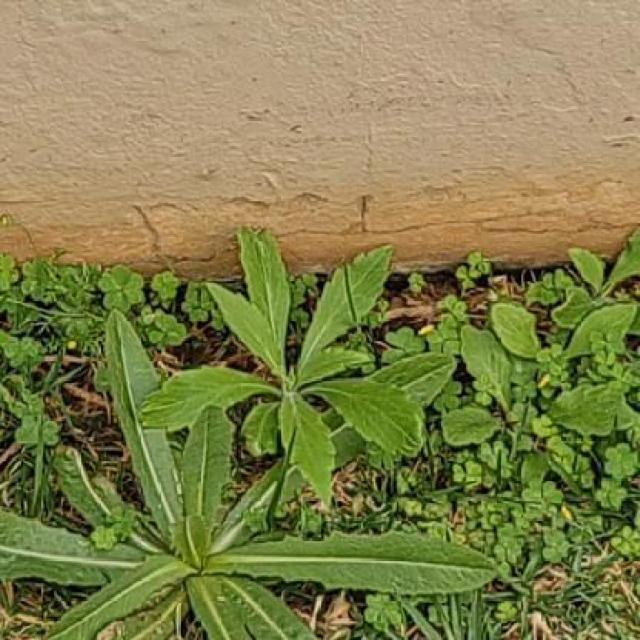weed: (0, 231, 495, 640)
